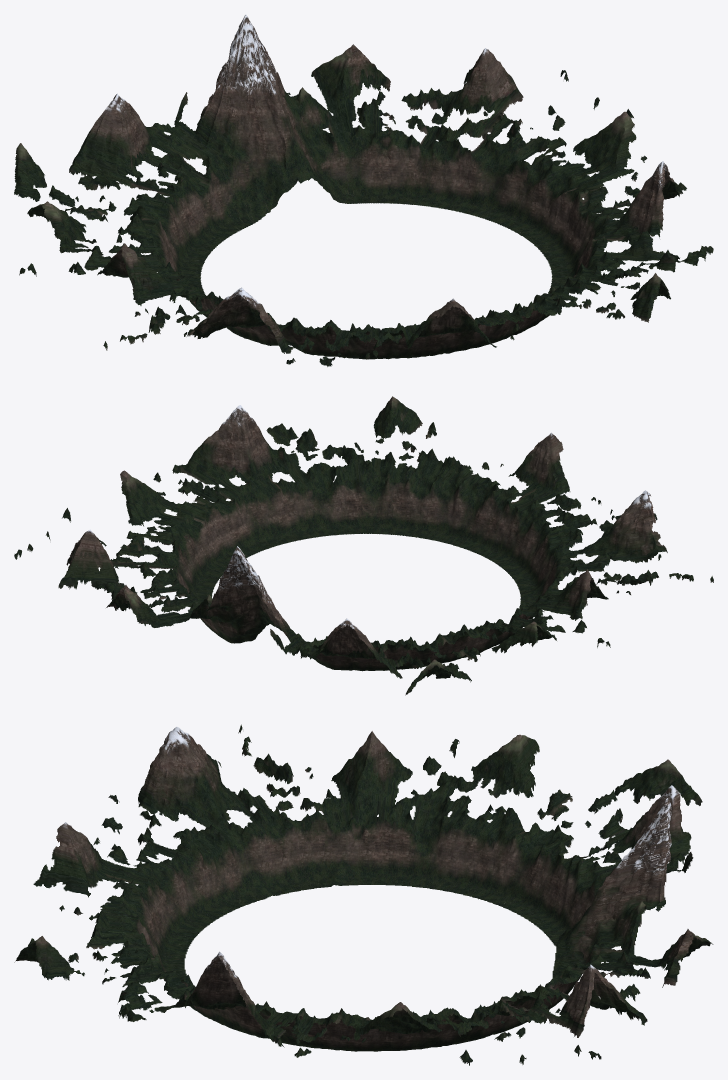
The model's file is backdrop_mountain_ring_v5_summer_far.glb.
The picture shows the model from 3 angles, top to bottom: view 1: azimuth 30°, elevation 25°; view 2: azimuth 150°, elevation 25°; view 3: azimuth 270°, elevation 25°; orthographic projection. The views are drawn at different scales.
Parts seen in each view (by area): view 1: backdrop_v5_far; view 2: backdrop_v5_far; view 3: backdrop_v5_far.
Boxes of the visible parts, <box> form: backdrop_v5_far: <box>14,14,713,366</box>; backdrop_v5_far: <box>14,396,713,695</box>; backdrop_v5_far: <box>14,724,713,1065</box>.
Bounding box in the file's own units: 3332 × 801 × 2984.
8 materials, 8 textured.
